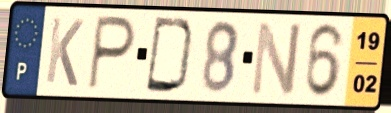6: (303, 20, 345, 101)
8: (199, 18, 241, 96)
D: (143, 15, 198, 97)
K: (42, 15, 86, 90)
N: (248, 18, 305, 98)
P: (85, 12, 139, 94)
